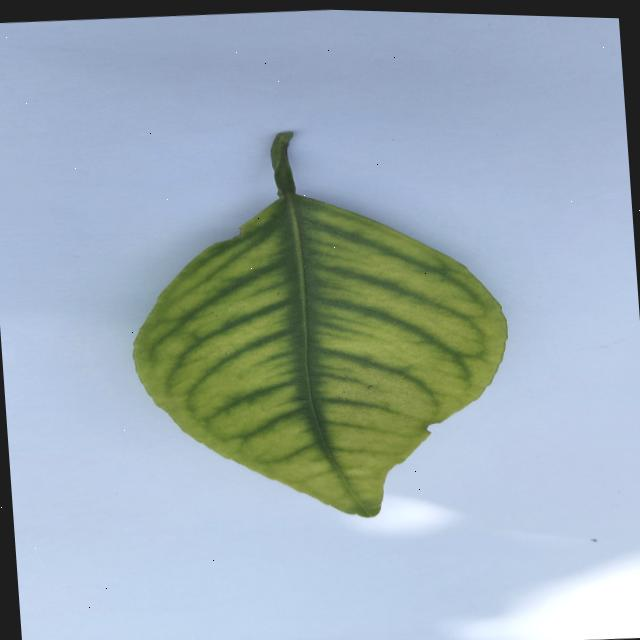greening: (134, 131, 506, 515)
